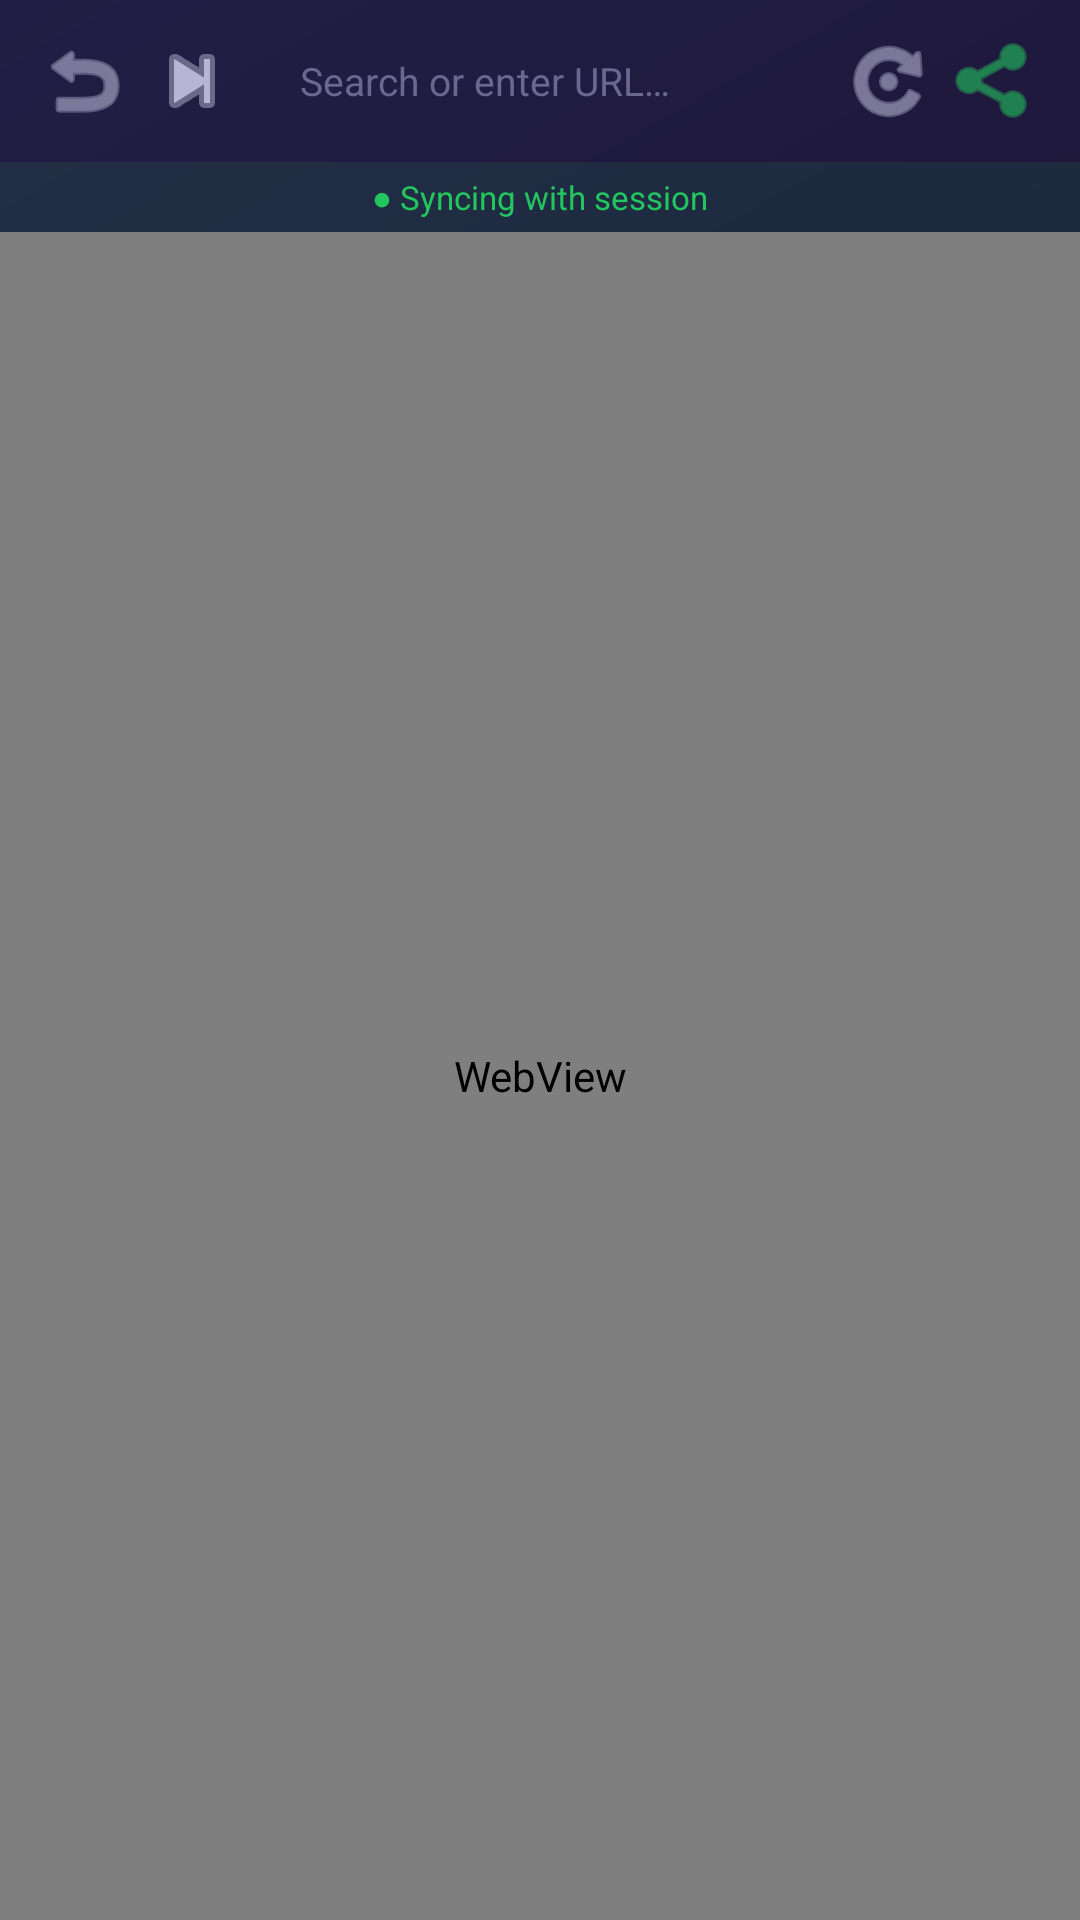

Icon bounding boxes for this 1080 × 1920 phone screenshot, format (x1, y1, x2, y2):
Back: (51, 51, 120, 113)
Forward: (169, 54, 215, 108)
Reload: (853, 46, 923, 117)
